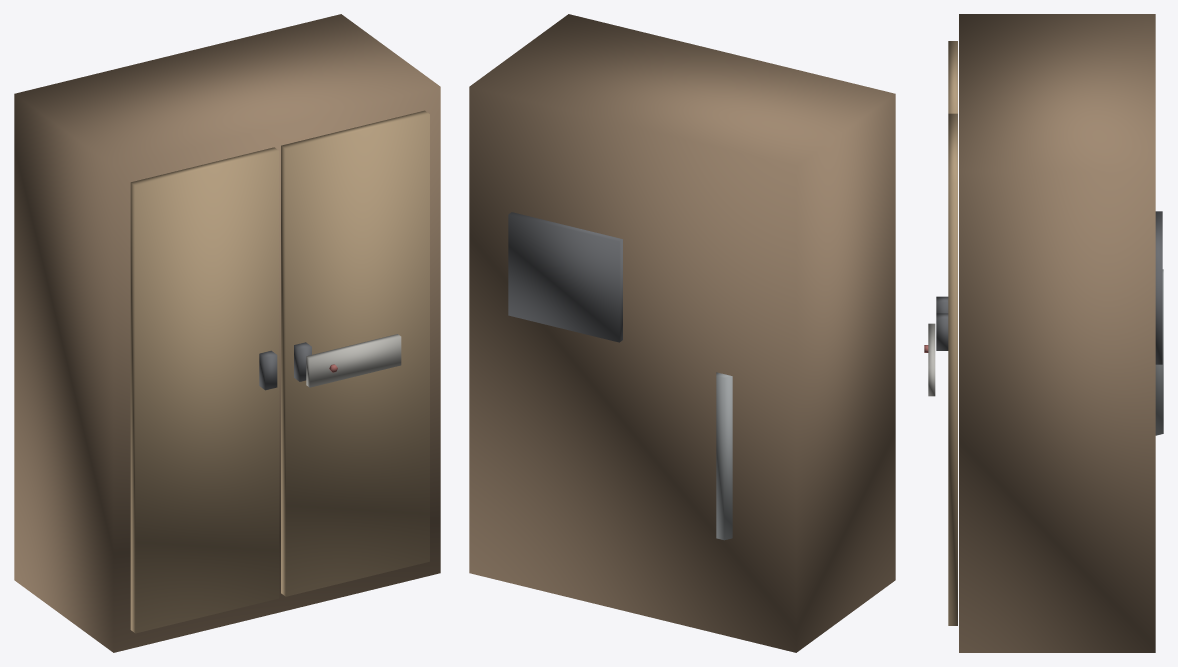
The model's file is photo_chemical_cabinet__service.glb.
The picture shows the model from 3 angles, left to right: view 1: azimuth 30°, elevation 25°; view 2: azimuth 150°, elevation 25°; view 3: azimuth 270°, elevation 25°; orthographic projection.
Parts seen in each view (by area): view 1: world; view 2: world; view 3: world.
Part boxes in pixels (x1,y1,x2,y2): world: [14, 14, 440, 652]; world: [469, 14, 895, 652]; world: [924, 14, 1163, 652].
Size of the model in its own units: 0.95 by 1.35 by 0.6091.
